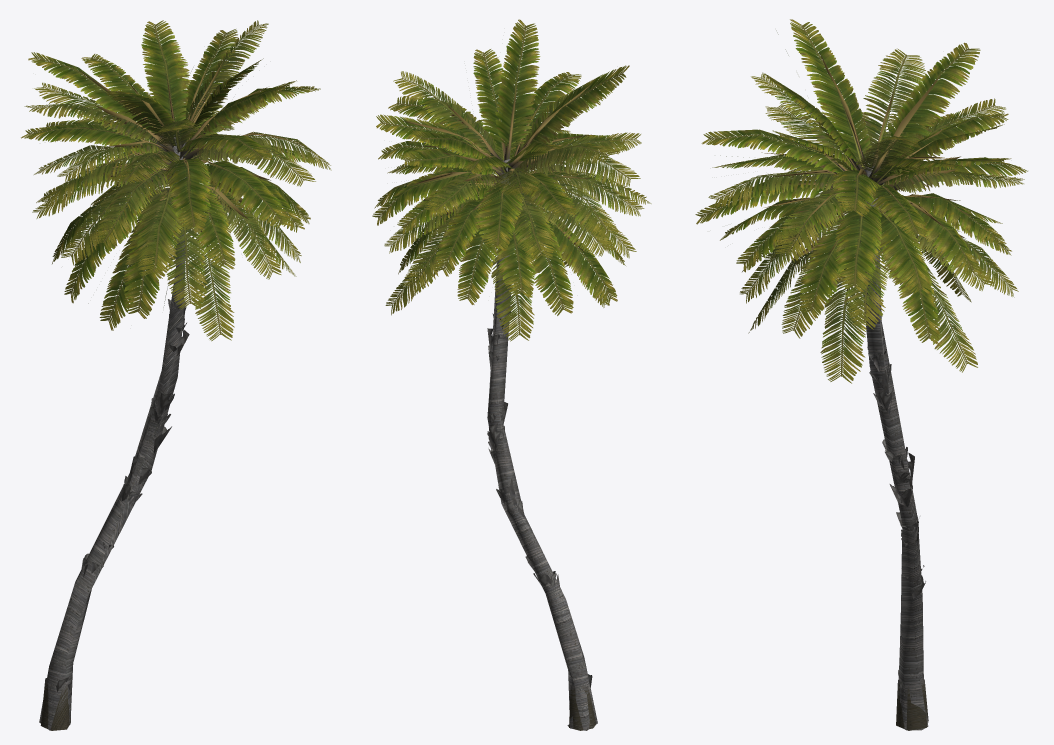
The model's file is cargo_palm_b_far.glb.
3 renders of one model, left to right at view 1: azimuth 30°, elevation 25°; view 2: azimuth 150°, elevation 25°; view 3: azimuth 270°, elevation 25°, orthographic. The views are drawn at different scales.
Parts seen in each view (by area): view 1: KB3D_TIS_Palm_B_Main; view 2: KB3D_TIS_Palm_B_Main; view 3: KB3D_TIS_Palm_B_Main.
Part boxes in pixels (left/top/right/bottom): KB3D_TIS_Palm_B_Main: left=21, top=20, right=331, bottom=730; KB3D_TIS_Palm_B_Main: left=372, top=19, right=651, bottom=730; KB3D_TIS_Palm_B_Main: left=695, top=19, right=1027, bottom=730.
Bounding box in the file's own units: 4.19 × 9.82 × 4.36.
Materials: 1 (1 with a texture image).
